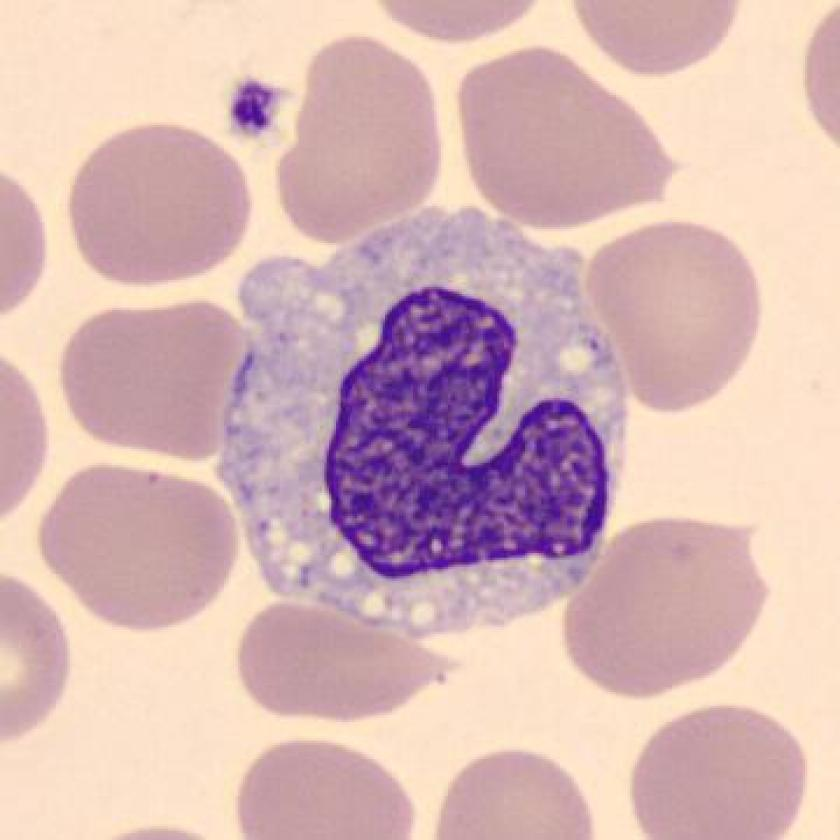monocyte: (202, 188, 652, 663)
